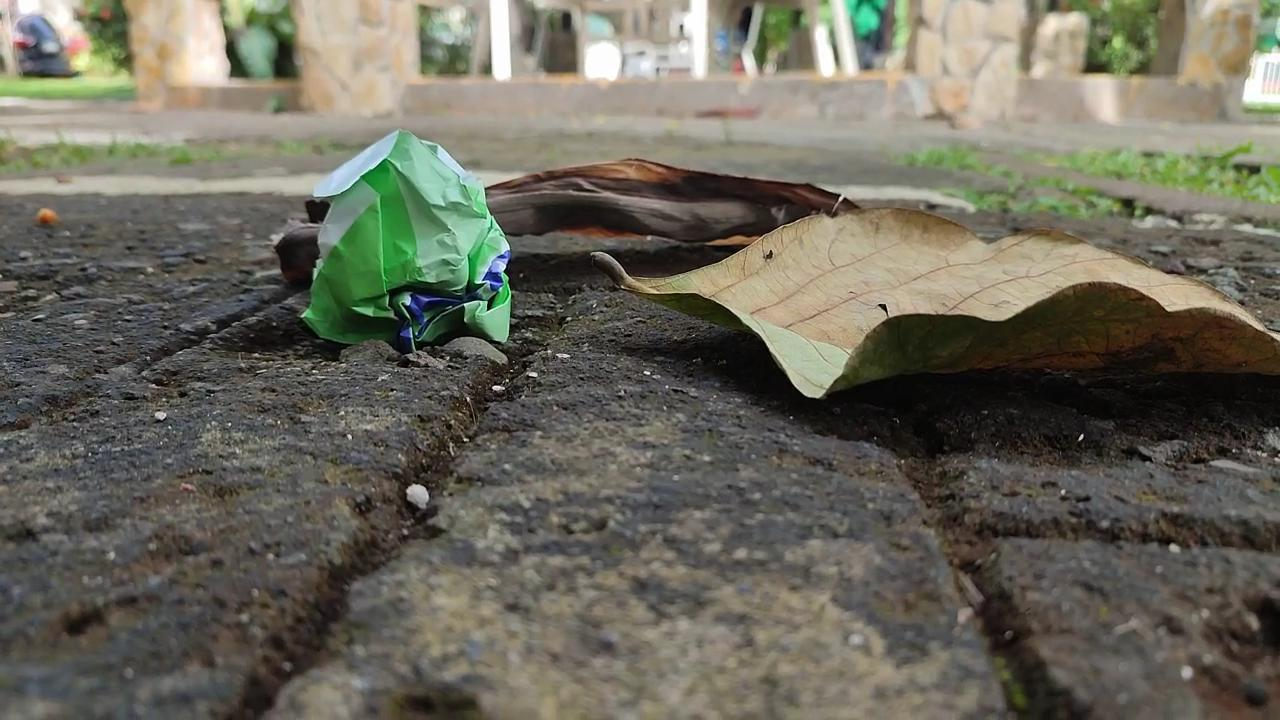Paper: (283, 101, 522, 370)
